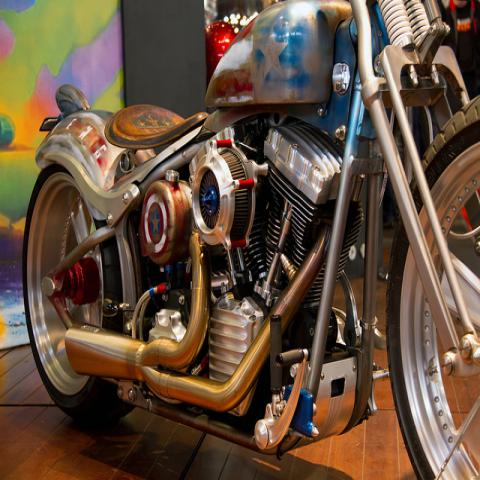motorcycle: (21, 21, 480, 479)
